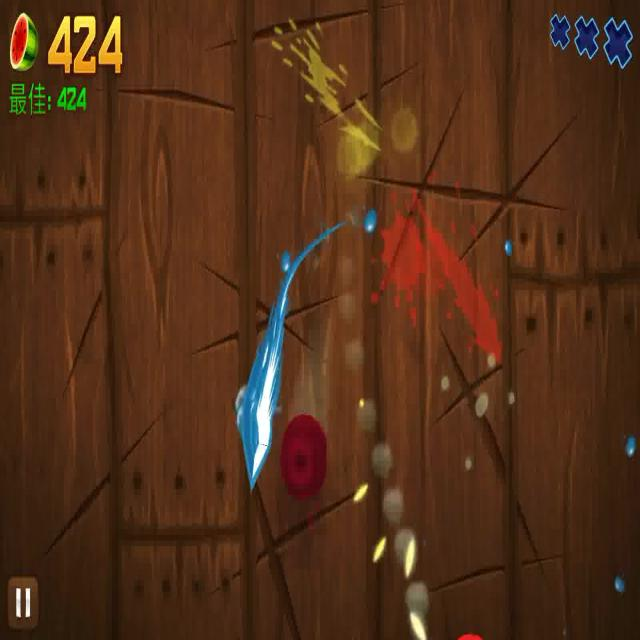fruit: (282, 413, 327, 503)
